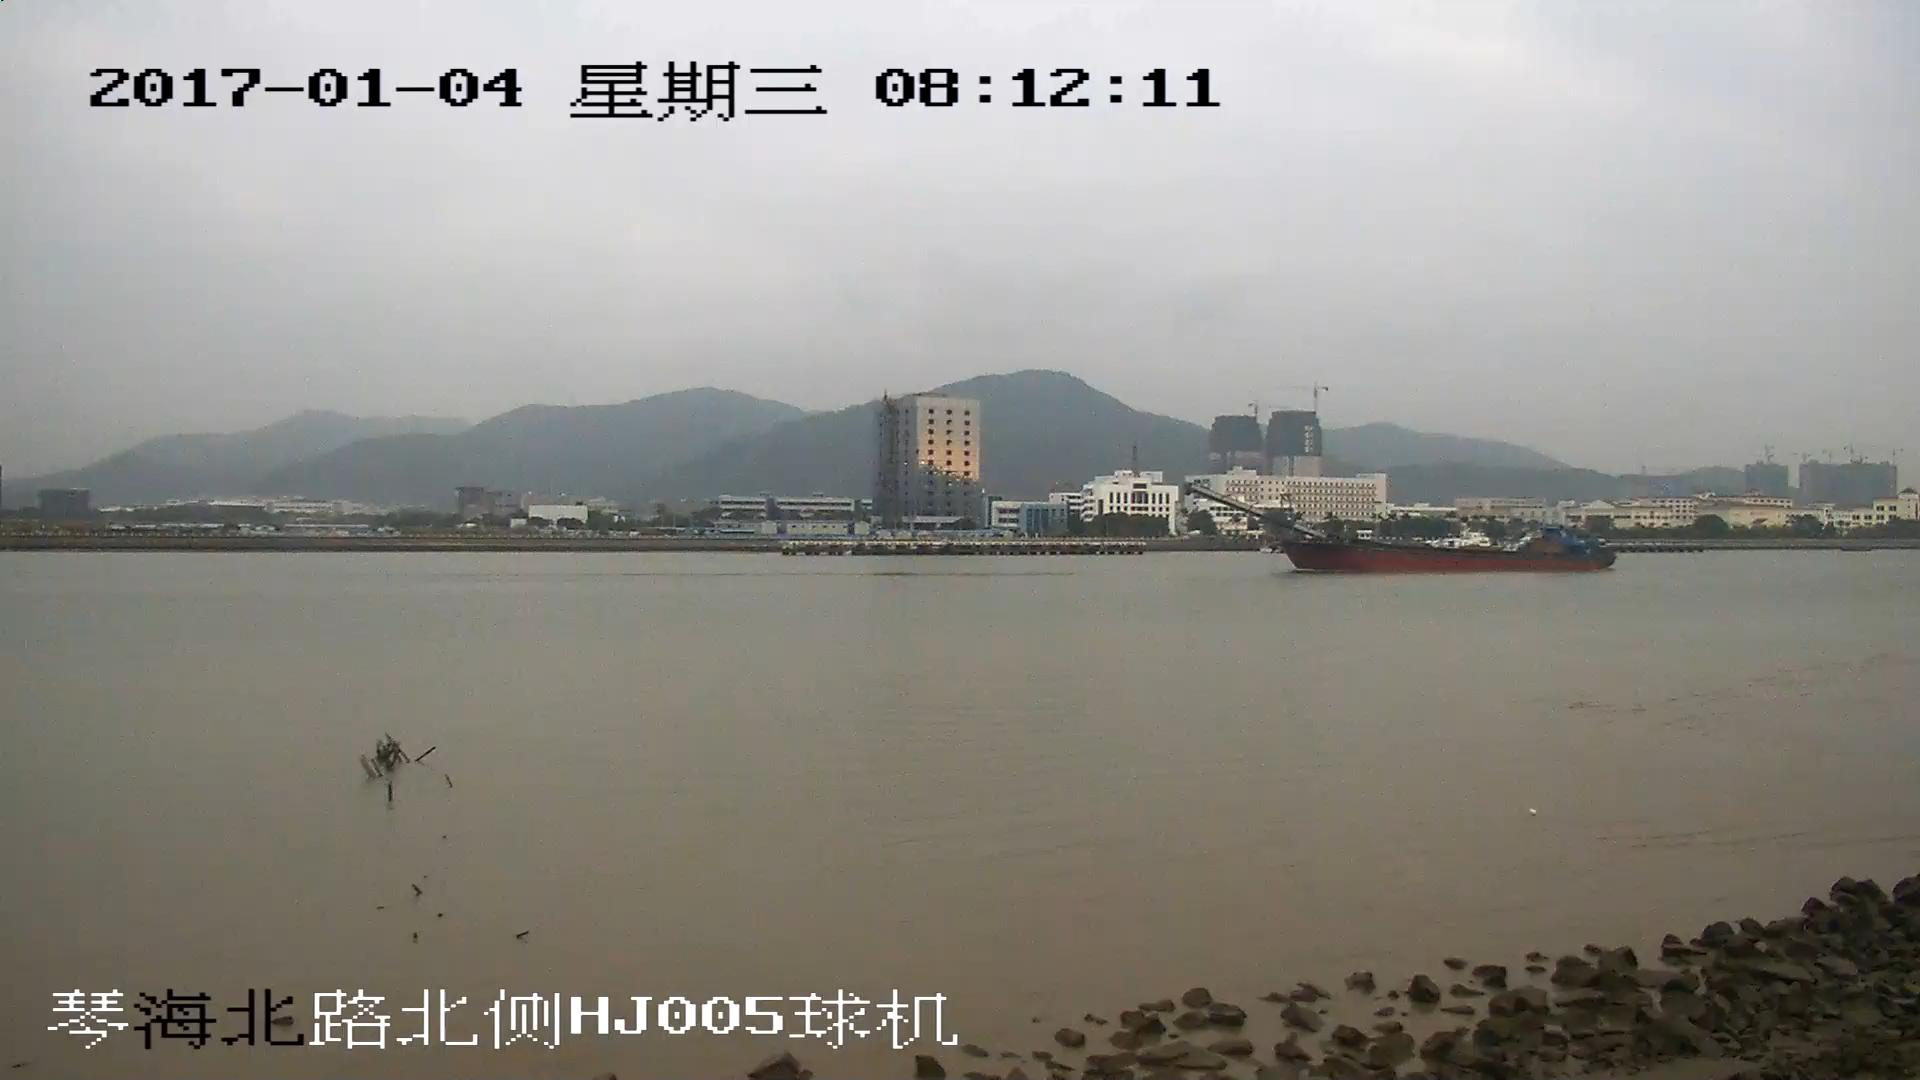bulk cargo carrier: (1191, 485, 1611, 570)
